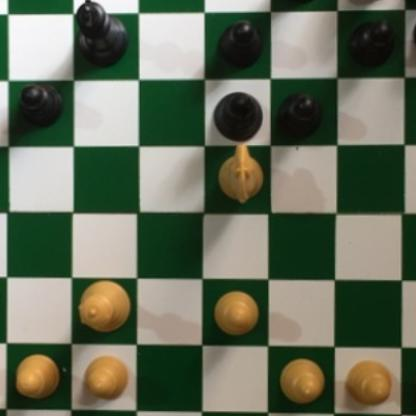black-bishop: (211, 90, 264, 141), (272, 0, 326, 6)
black-king: (69, 0, 130, 69)
black-knight: (348, 0, 406, 4)
black-pawn: (347, 17, 395, 70), (273, 92, 324, 141), (16, 82, 62, 132), (215, 20, 261, 70), (411, 6, 416, 61)
black-rook: (404, 0, 416, 4)
white-knight: (215, 141, 261, 209)
white-pawn: (212, 288, 263, 342), (343, 355, 394, 407), (275, 354, 326, 404), (12, 352, 64, 400), (81, 352, 133, 400), (412, 358, 416, 408)
white-queen: (76, 277, 133, 334)
white-rook: (403, 414, 416, 416)
